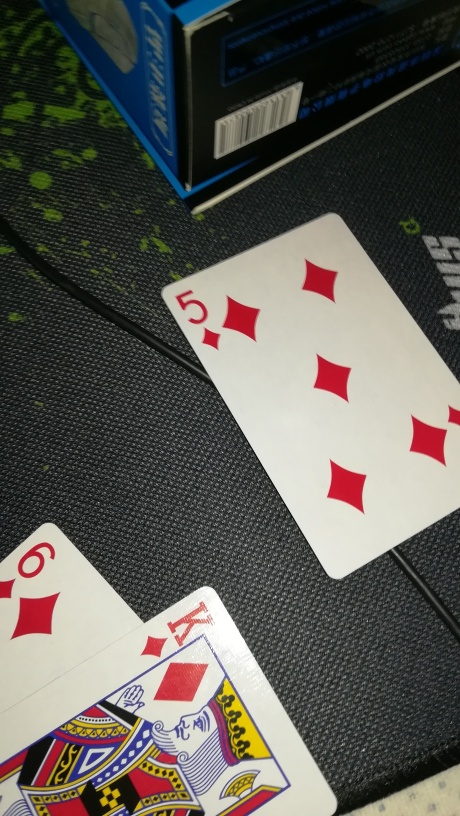fk 5: (159, 212, 460, 583)
